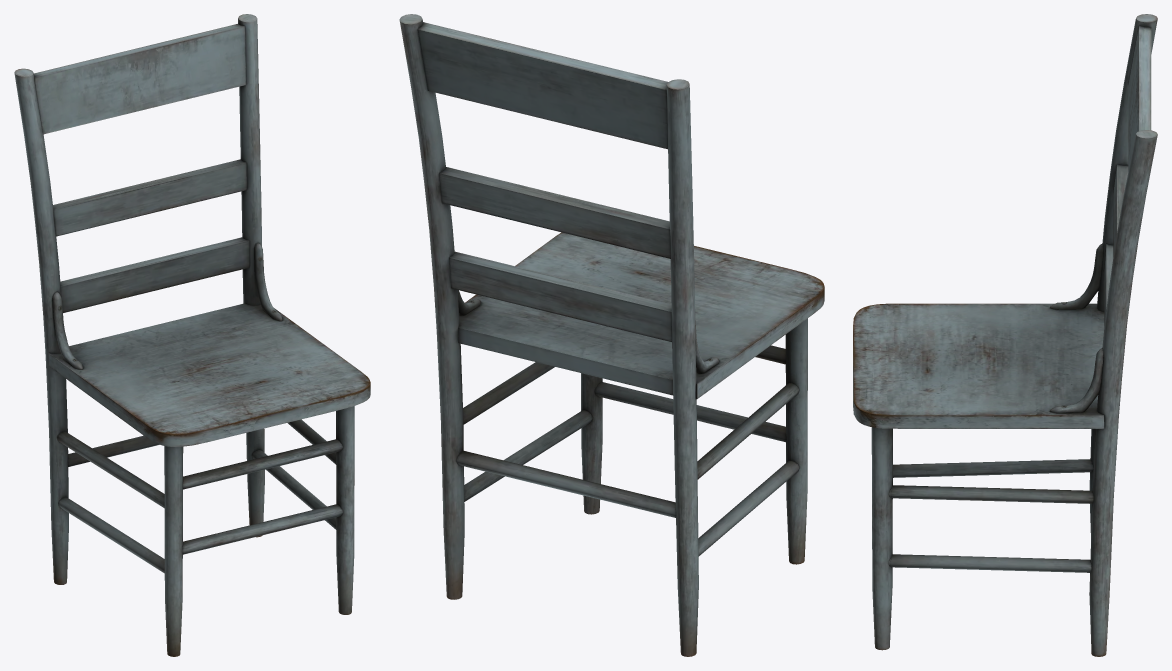
File: painted_wooden_chair_02.glb
3 views of the same model, side by side, from view 1: azimuth 30°, elevation 25°; view 2: azimuth 150°, elevation 25°; view 3: azimuth 270°, elevation 25° (orthographic). The views are drawn at different scales.
Parts seen in each view (by area): view 1: painted_wooden_chair_02; view 2: painted_wooden_chair_02; view 3: painted_wooden_chair_02.
Part boxes in pixels (x1,y1,x2,y2): painted_wooden_chair_02: [14, 14, 370, 656]; painted_wooden_chair_02: [399, 14, 824, 656]; painted_wooden_chair_02: [853, 14, 1157, 656].
Size of the model in its own units: 0.6394 by 1.26 by 0.6621.
1 material, 1 textured.
